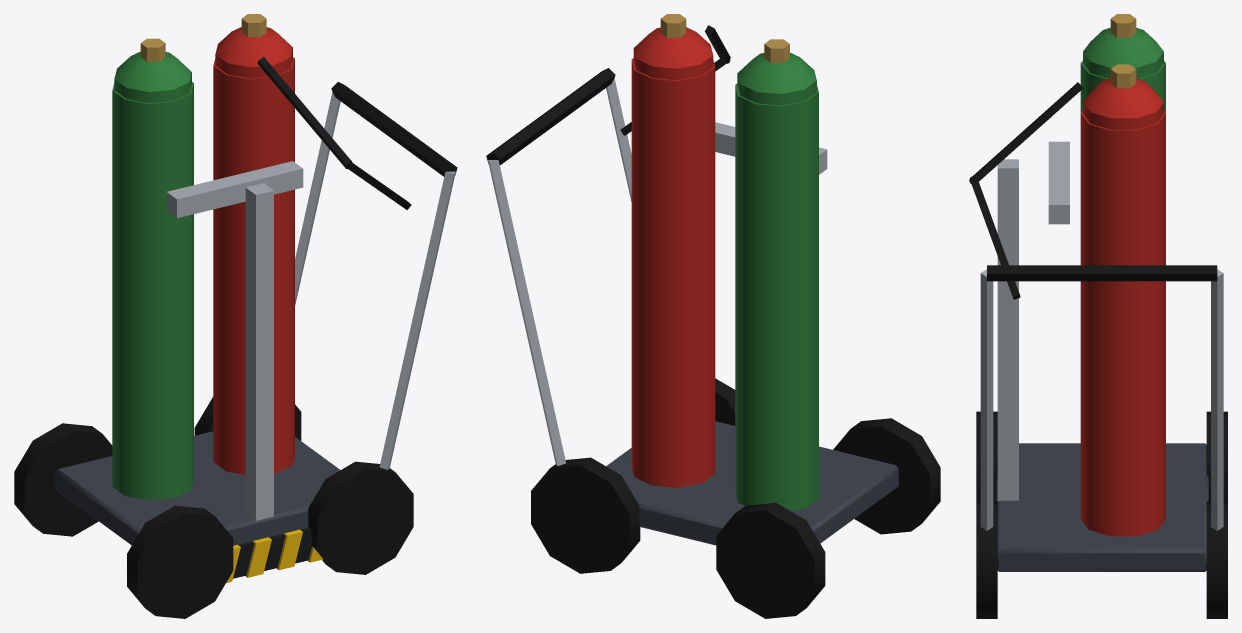
File: engtool_oxy_torch_cart.glb
3 renders of one model, left to right at view 1: azimuth 30°, elevation 25°; view 2: azimuth 150°, elevation 25°; view 3: azimuth 270°, elevation 25°, orthographic. The views are drawn at different scales.
Parts seen in each view (by area): view 1: engtool_oxy_torch_cart; view 2: engtool_oxy_torch_cart; view 3: engtool_oxy_torch_cart.
Part boxes in pixels (box(x1,y1,x2,y2)): engtool_oxy_torch_cart: box(14, 14, 457, 618); engtool_oxy_torch_cart: box(486, 14, 940, 618); engtool_oxy_torch_cart: box(969, 14, 1227, 618).
Bounding box in the file's own units: 0.9022 × 1.36 × 0.607.
